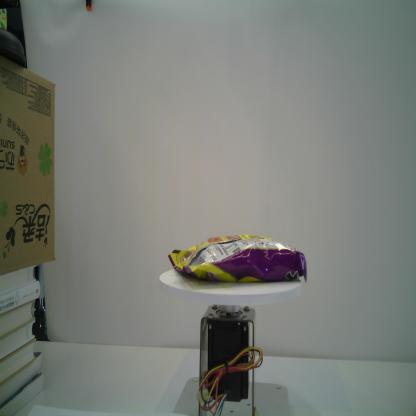Instant Noodles: (168, 235, 308, 284)
